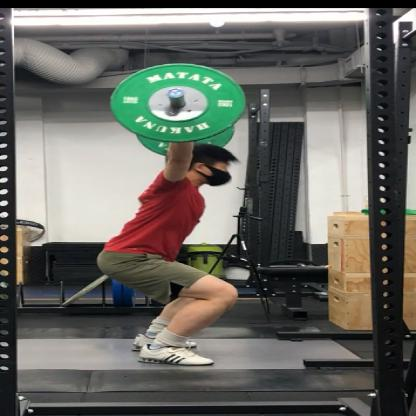Barbell: (105, 60, 256, 146)
